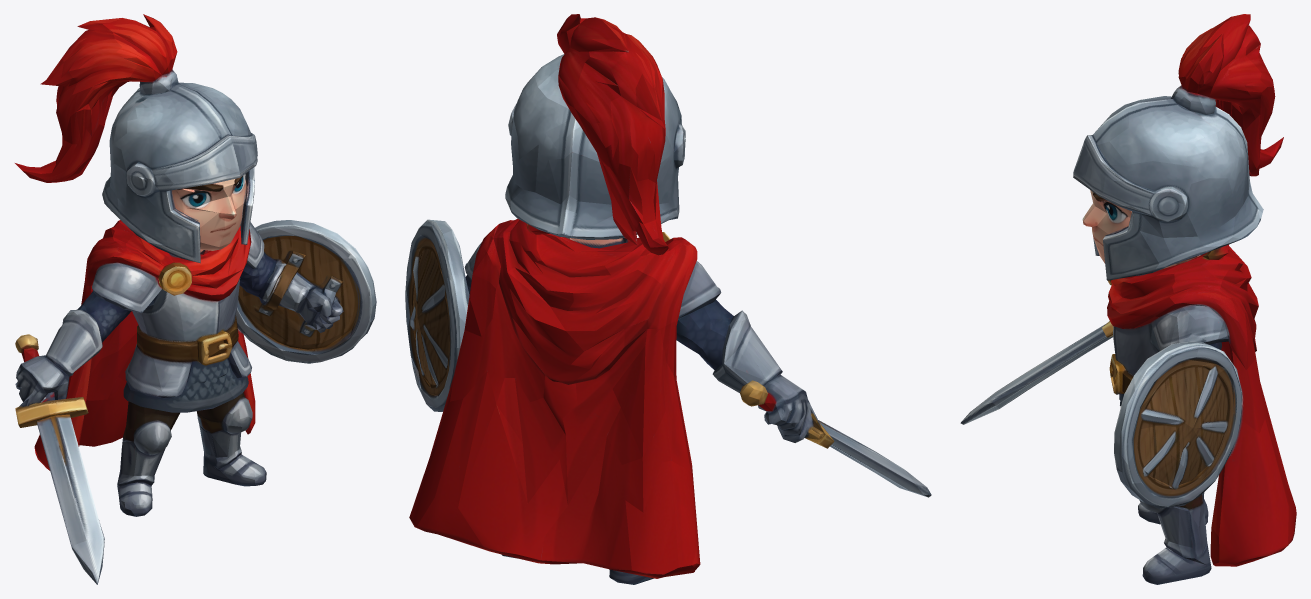
Rendered from Hero_Knight.fbx.
3 renders of one model, left to right at view 1: azimuth 30°, elevation 25°; view 2: azimuth 150°, elevation 25°; view 3: azimuth 270°, elevation 25°, orthographic. The views are drawn at different scales.
Visible parts, largest first — view 1: output_unwrapped; view 2: output_unwrapped; view 3: output_unwrapped.
Part boxes in pixels (<box>): output_unwrapped: <box>15,14,376,584</box>; output_unwrapped: <box>405,14,931,584</box>; output_unwrapped: <box>960,14,1296,584</box>.
Size of the model in its own units: 153 by 190 by 115.
1 material, 1 textured.
